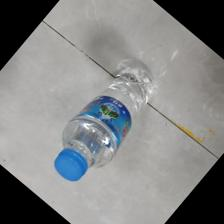Lavie: (54, 68, 153, 183)
